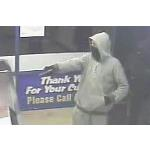Pistol: (36, 65, 54, 77)
